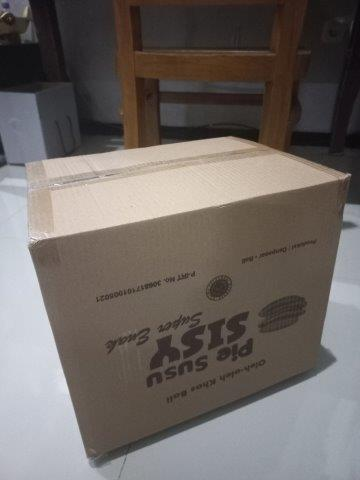kardus: (24, 133, 351, 460)
